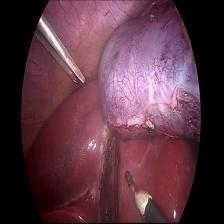Grasper: (37, 9, 89, 100)
Hook: (119, 168, 157, 224)
